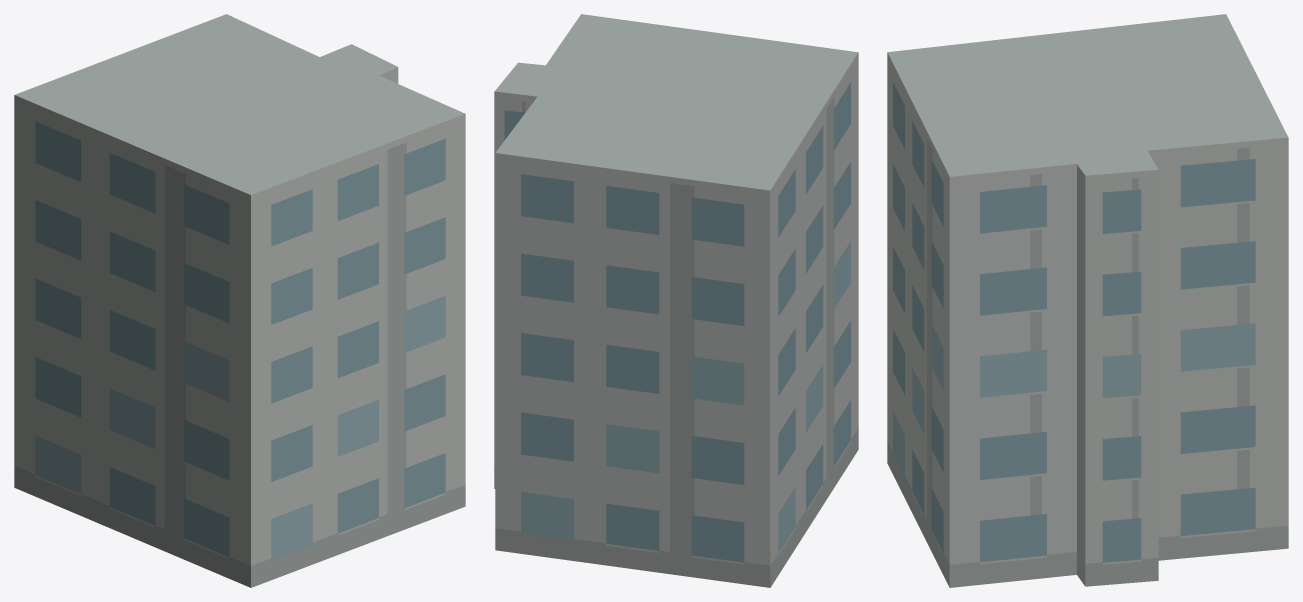
File: survey-upis-32821742.glb
The picture shows the model from 3 angles, left to right: view 1: azimuth 30°, elevation 25°; view 2: azimuth 150°, elevation 25°; view 3: azimuth 270°, elevation 25°; orthographic projection. The views are drawn at different scales.
Parts seen in each view (by area): view 1: survey-upis-32821742.tmp; view 2: survey-upis-32821742.tmp; view 3: survey-upis-32821742.tmp.
Boxes of the visible parts, x1,y1,x2,y2 form: survey-upis-32821742.tmp: (14,14,465,587); survey-upis-32821742.tmp: (494,14,858,587); survey-upis-32821742.tmp: (887,14,1288,587).
Bounding box in the file's own units: 12.98 × 15.25 × 13.5.
